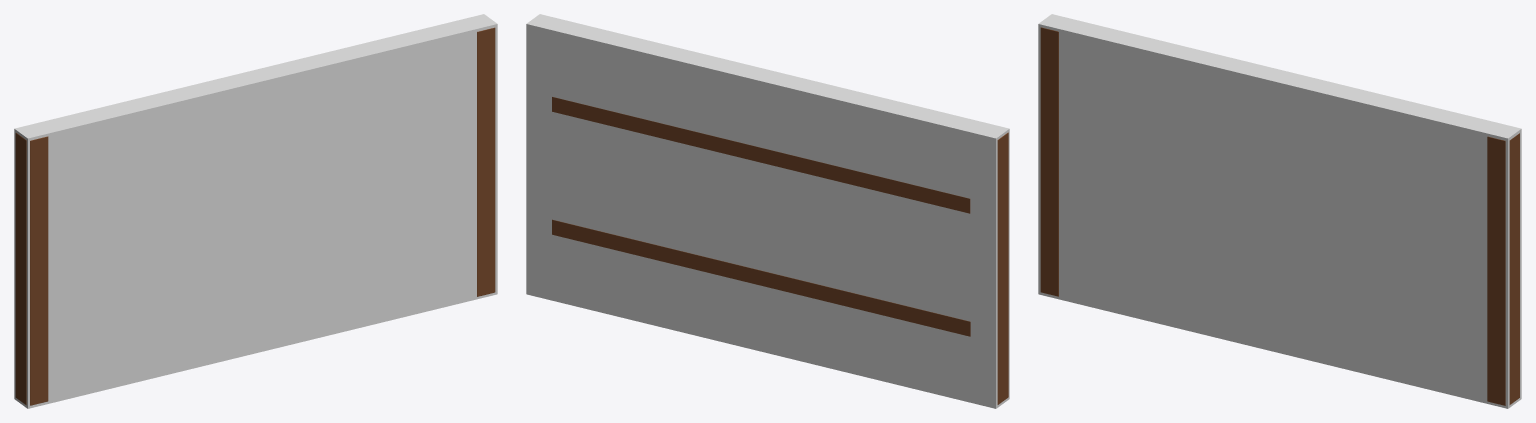
File: fnc_panel_a.glb
3 renders of one model, left to right at view 1: azimuth 30°, elevation 25°; view 2: azimuth 150°, elevation 25°; view 3: azimuth 330°, elevation 25°, orthographic.
Parts seen in each view (by area): view 1: COL_fnc_panel_a_1, fnc_panel_a; view 2: COL_fnc_panel_a_1, fnc_panel_a; view 3: COL_fnc_panel_a_1, fnc_panel_a.
Part boxes in pixels (box(x1,y1,x2,y2)): COL_fnc_panel_a_1: box(14, 14, 497, 408); fnc_panel_a: box(15, 27, 495, 405); COL_fnc_panel_a_1: box(526, 14, 1009, 408); fnc_panel_a: box(552, 97, 1008, 404); COL_fnc_panel_a_1: box(1038, 14, 1521, 408); fnc_panel_a: box(1040, 27, 1519, 405).
Size of the model in its own units: 2 by 1.1 by 0.1019.
